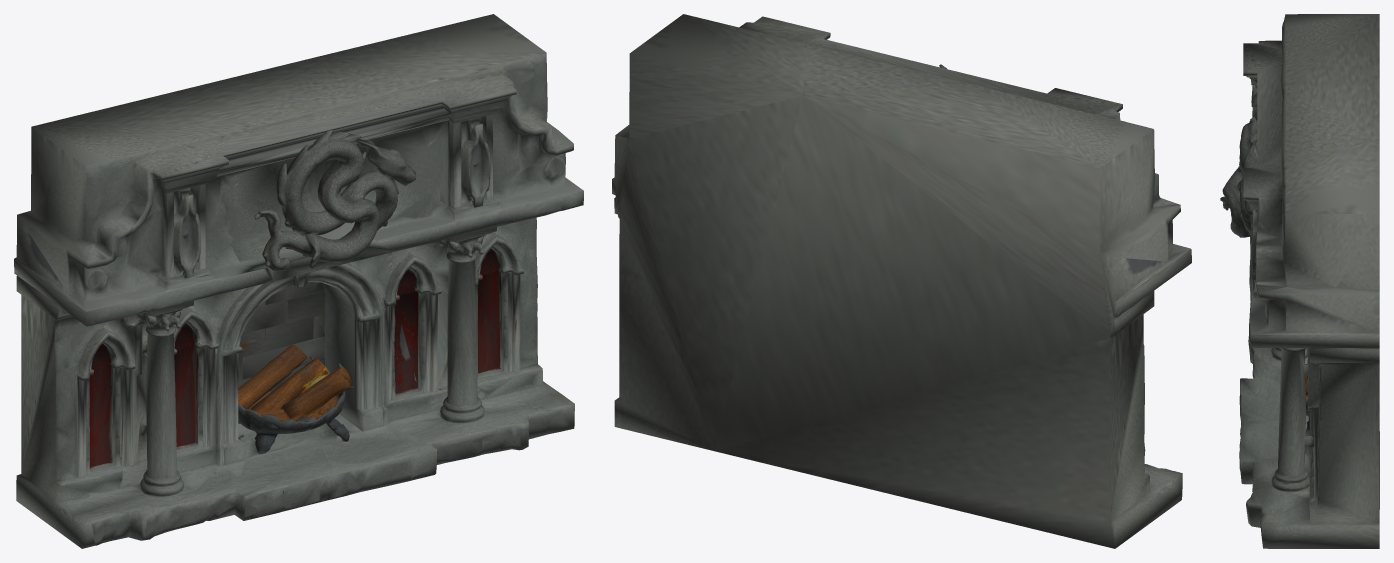
Rendered from hearth_h1.glb.
3 views of the same model, side by side, from view 1: azimuth 30°, elevation 25°; view 2: azimuth 150°, elevation 25°; view 3: azimuth 270°, elevation 25° (orthographic). The views are drawn at different scales.
Visible parts, largest first — view 1: body; view 2: body; view 3: body.
Boxes of the visible parts, x1=… form: body: x1=14, y1=14, x2=583, y2=548; body: x1=612, y1=14, x2=1191, y2=548; body: x1=1220, y1=14, x2=1379, y2=548.
Size of the model in its own units: 3.23 by 2.3 by 1.01.
Materials: 1 (1 with a texture image).
